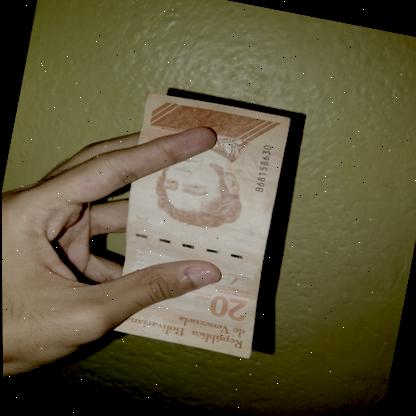twenty-front-vef: (100, 89, 295, 359)
